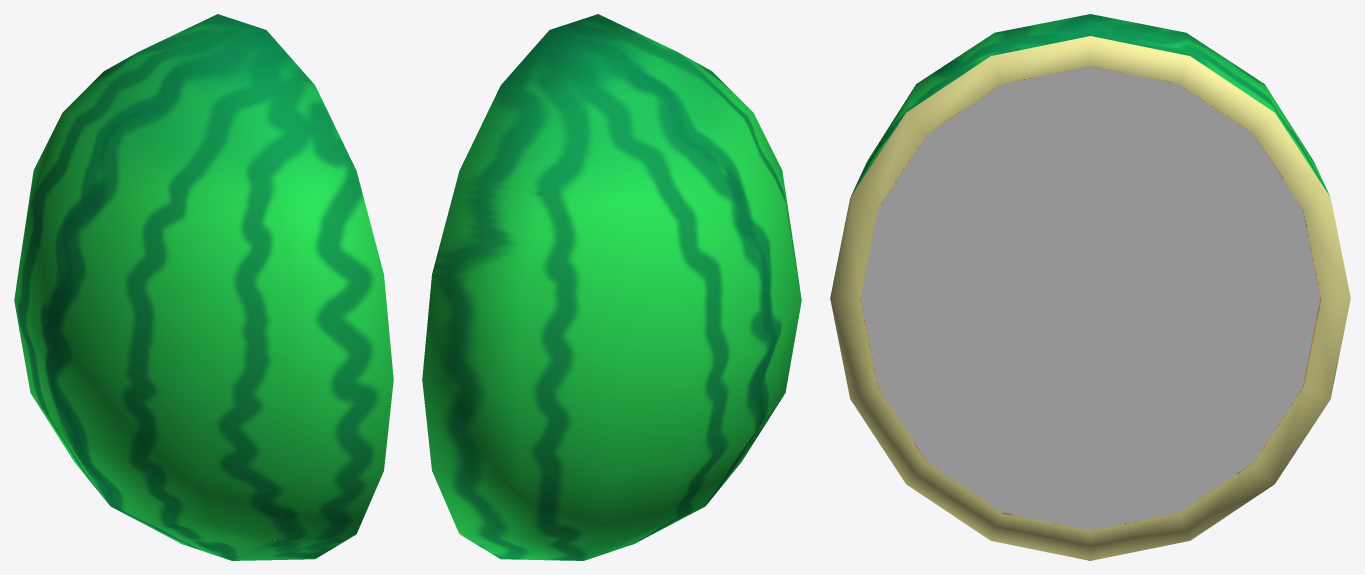
Rendered from watermelon-semi.fbx.
The picture shows the model from 3 angles, left to right: view 1: azimuth 30°, elevation 25°; view 2: azimuth 150°, elevation 25°; view 3: azimuth 270°, elevation 25°; orthographic projection. The views are drawn at different scales.
Parts seen in each view (by area): view 1: Watermelon.002; view 2: Watermelon.002; view 3: Watermelon.002.
Part boxes in pixels (box(x1,y1,x2,y2)): Watermelon.002: box(14, 14, 393, 560); Watermelon.002: box(422, 14, 801, 560); Watermelon.002: box(830, 14, 1350, 560).
Size of the model in its own units: 72.98 by 162 by 146.
Materials: 2 (1 with a texture image).
